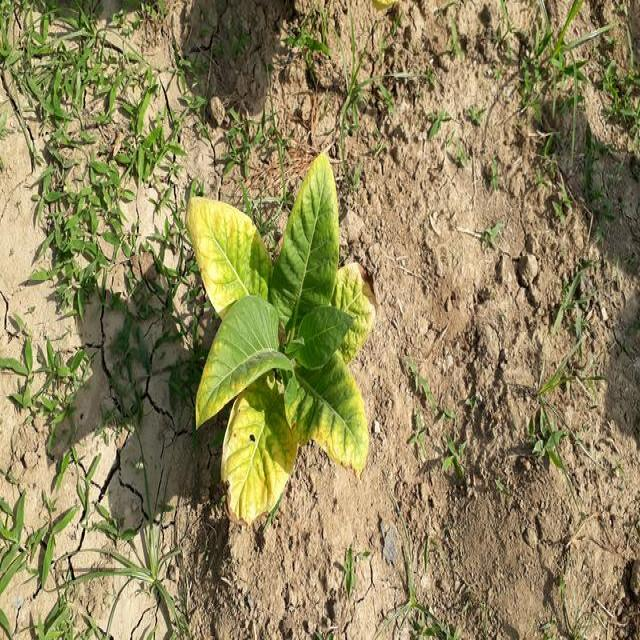crop: (195, 178, 380, 512)
